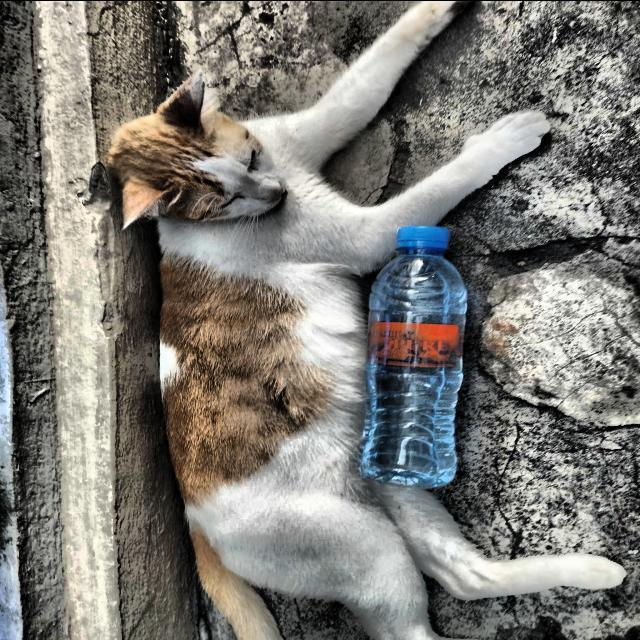Healthy skin: (188, 317, 332, 503), (128, 68, 294, 220)
